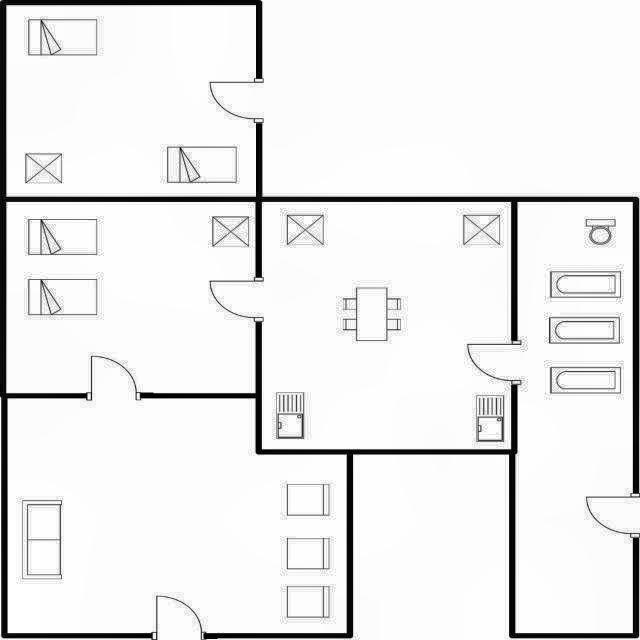room: (7, 398, 348, 634), (262, 203, 511, 449), (515, 202, 633, 634), (6, 5, 255, 196), (7, 202, 255, 393)
